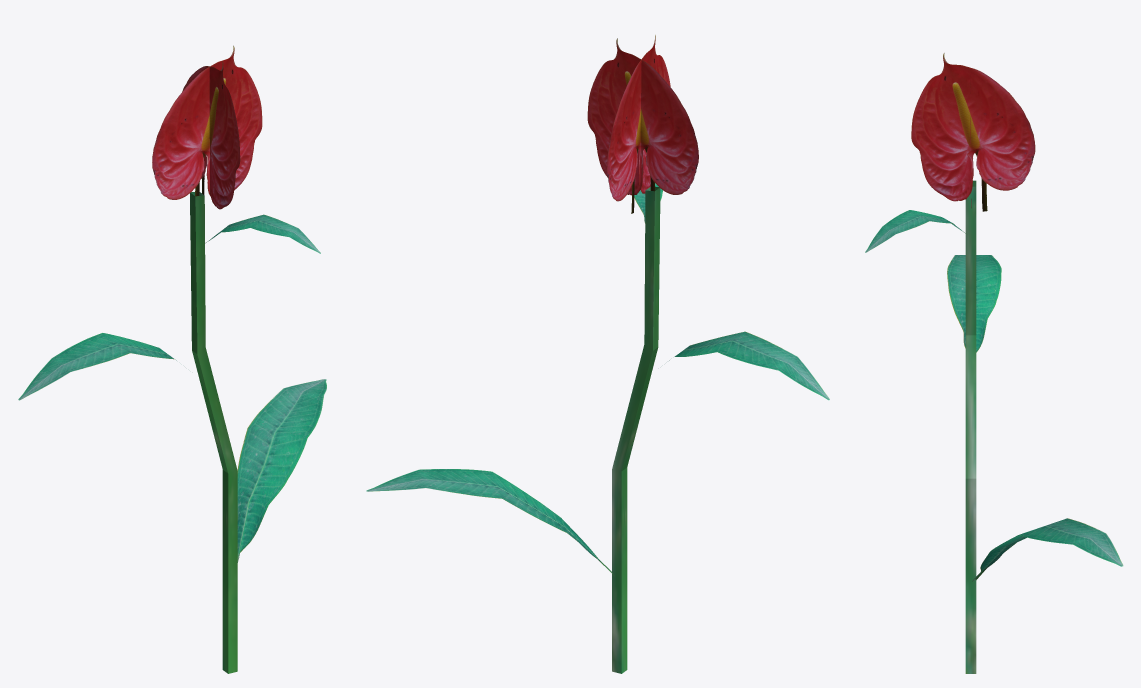
The model's file is Farn03.fbx.
3 views of the same model, side by side, from view 1: azimuth 30°, elevation 25°; view 2: azimuth 150°, elevation 25°; view 3: azimuth 270°, elevation 25° (orthographic). The views are drawn at different scales.
Parts seen in each view (by area): view 1: Plane_001, Plane_002, Cube; view 2: Plane_002, Cube, Plane_001; view 3: Plane_002, Plane_001, Cube.
Boxes of the visible parts, x1=… form: Plane_001: x1=18, y1=214, x2=326, y2=562; Plane_002: x1=152, y1=45, x2=262, y2=209; Cube: x1=190, y1=192, x2=237, y2=673; Plane_002: x1=587, y1=35, x2=698, y2=213; Cube: x1=612, y1=186, x2=660, y2=673; Plane_001: x1=366, y1=183, x2=829, y2=575; Plane_002: x1=911, y1=53, x2=1035, y2=211; Plane_001: x1=865, y1=210, x2=1123, y2=581; Cube: x1=965, y1=180, x2=976, y2=673.
Size of the model in its own units: 408 by 642 by 245.
